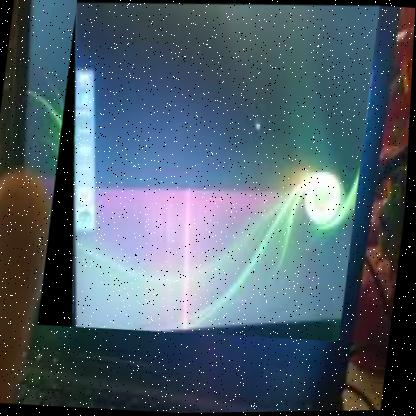fade: (39, 0, 381, 347)
